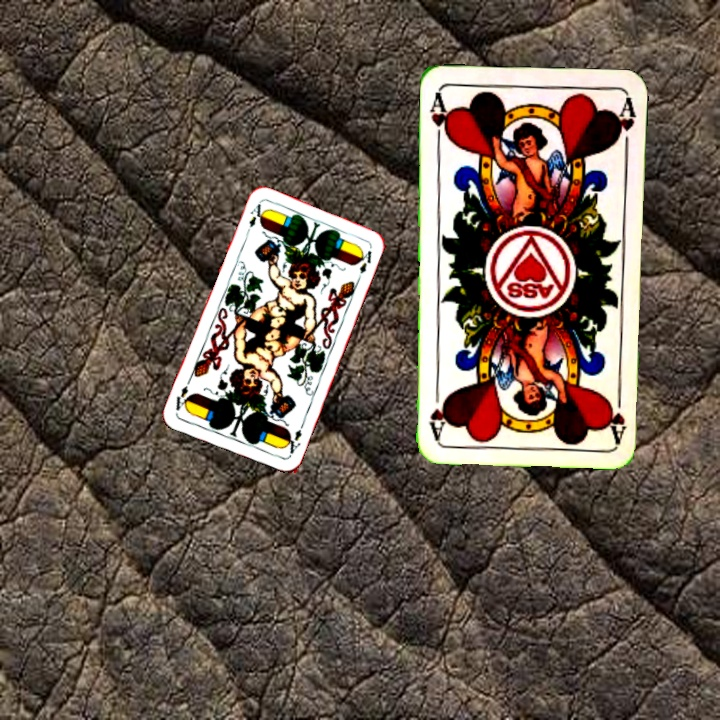EA: (281, 419, 307, 458), (241, 199, 263, 239)
HA: (426, 89, 453, 148), (603, 384, 629, 443)
